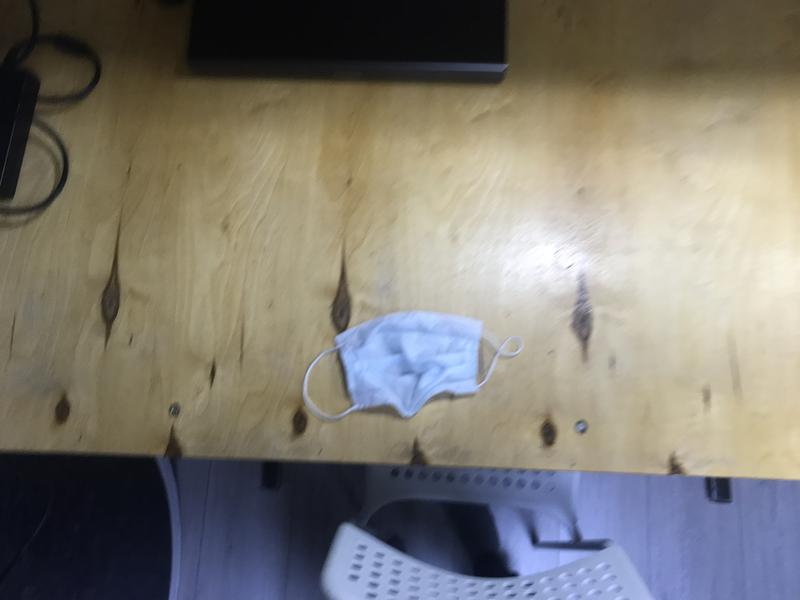medical_mask: (304, 311, 522, 421)
